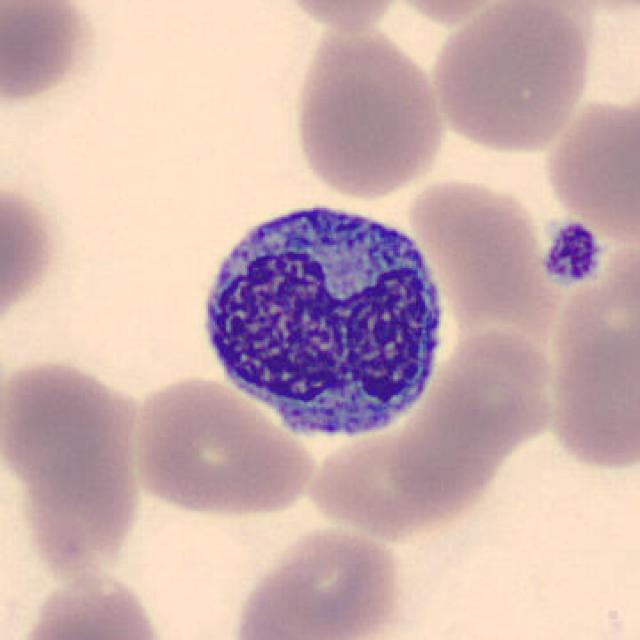Monocyte: (187, 190, 457, 452)
Platelets: (537, 217, 604, 291)
RBC: (288, 19, 452, 201), (124, 372, 320, 518), (427, 0, 597, 157), (540, 234, 640, 478), (400, 173, 555, 326), (302, 420, 487, 541), (227, 523, 407, 640), (0, 353, 144, 497), (422, 325, 566, 453), (18, 439, 145, 584), (539, 87, 638, 250), (11, 564, 170, 640), (0, 173, 64, 342), (0, 0, 101, 107), (270, 0, 412, 33), (10, 613, 161, 640), (375, 0, 526, 26), (542, 0, 638, 18)
